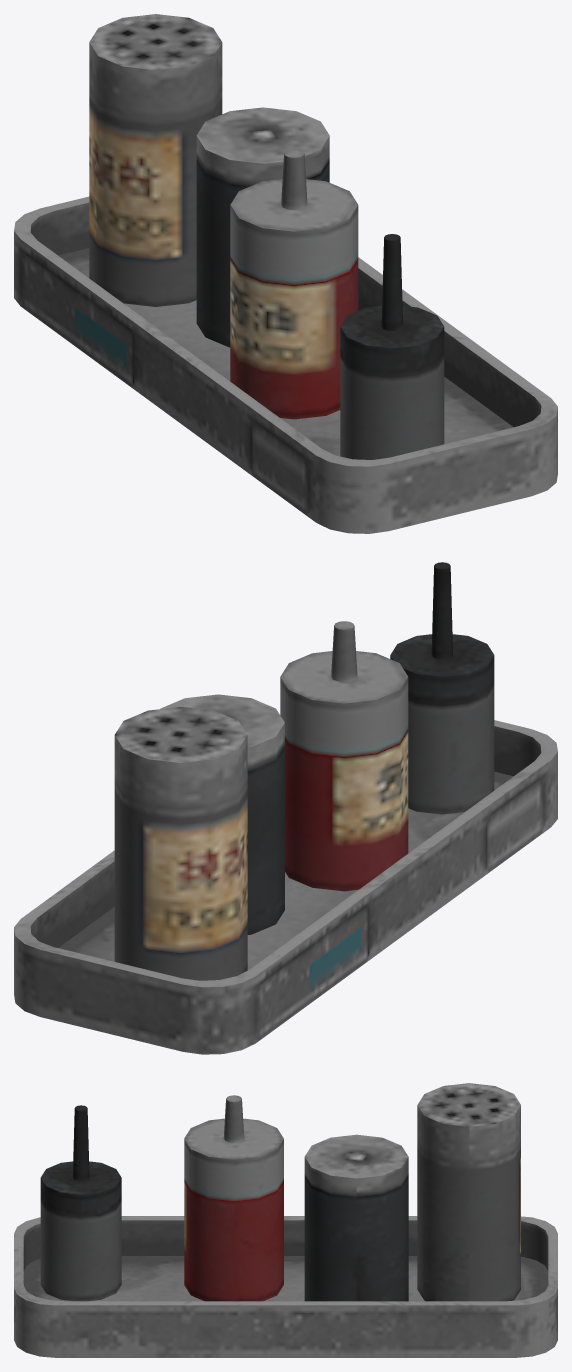
Rendered from CP_Condiment_Set.fbx.
3 renders of one model, top to bottom at view 1: azimuth 30°, elevation 25°; view 2: azimuth 150°, elevation 25°; view 3: azimuth 270°, elevation 25°, orthographic. The views are drawn at different scales.
Parts seen in each view (by area): view 1: CP_Condiment_Set_LOD0; view 2: CP_Condiment_Set_LOD0; view 3: CP_Condiment_Set_LOD0.
Part boxes in pixels (x1,y1,x2,y2): CP_Condiment_Set_LOD0: [14, 14, 557, 533]; CP_Condiment_Set_LOD0: [14, 562, 557, 1054]; CP_Condiment_Set_LOD0: [14, 1083, 557, 1357].
Size of what is drawn, in the model's own units: 15.5 by 16.58 by 39.87.
